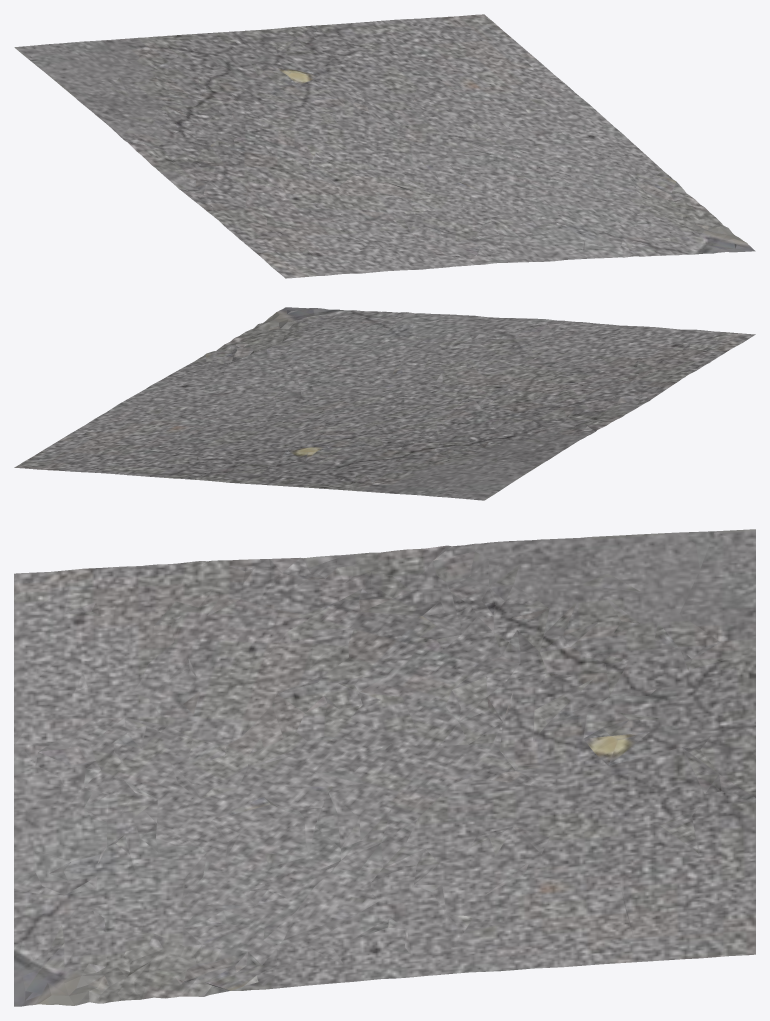
3 views of the same model, one above another, from view 1: azimuth 30°, elevation 25°; view 2: azimuth 150°, elevation 25°; view 3: azimuth 270°, elevation 25° (orthographic). The views are drawn at different scales.
Bounding box in the file's own units: 1.67 × 0.4085 × 1.67.
3 materials, 3 textured.
